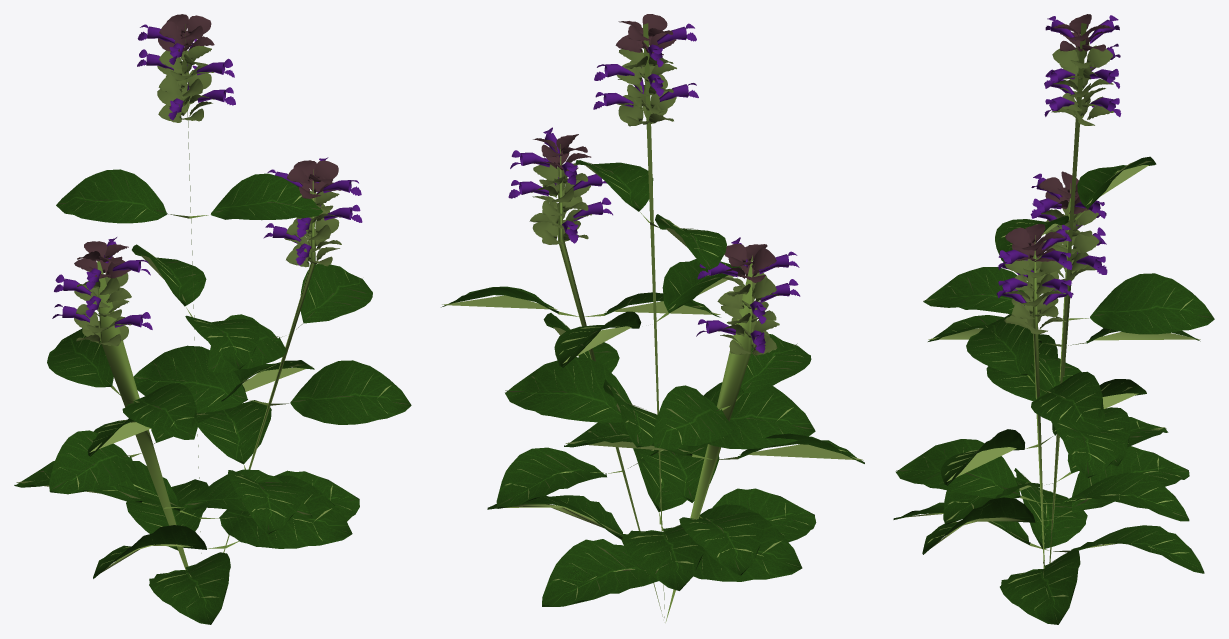
File: self-heal.glb
The picture shows the model from 3 angles, left to right: view 1: azimuth 30°, elevation 25°; view 2: azimuth 150°, elevation 25°; view 3: azimuth 270°, elevation 25°; orthographic projection. The views are drawn at different scales.
Visible parts, largest first — view 1: leaves, petals, stems, petals.002, hooded_corolla_tubes, leaf_secondary_veins, leaf_midribs, petals.001; view 2: leaves, petals, stems, leaf_midribs, hooded_corolla_tubes, petals.002, leaf_secondary_veins, petals.001; view 3: leaves, petals, hooded_corolla_tubes, stems, petals.002, leaf_midribs, leaf_secondary_veins, petals.001.
Boxes of the visible parts, x1,y1,x2,y2 form: leaves: [14, 169, 411, 624]; petals: [74, 45, 341, 346]; stems: [97, 24, 315, 569]; petals.002: [74, 14, 341, 278]; hooded_corolla_tubes: [62, 26, 352, 327]; leaf_secondary_veins: [40, 177, 391, 610]; leaf_midribs: [16, 199, 409, 617]; petals.001: [52, 24, 362, 329]; leaves: [441, 160, 864, 606]; petals: [529, 49, 779, 355]; stems: [558, 23, 752, 622]; leaf_midribs: [442, 165, 863, 599]; hooded_corolla_tubes: [519, 26, 790, 345]; petals.002: [532, 14, 778, 282]; leaf_secondary_veins: [505, 162, 847, 599]; petals.001: [508, 23, 800, 353]; leaves: [893, 156, 1214, 624]; petals: [1004, 43, 1113, 334]; hooded_corolla_tubes: [1002, 19, 1115, 305]; stems: [1020, 23, 1088, 568]; petals.002: [1005, 14, 1112, 261]; leaf_midribs: [896, 165, 1213, 619]; leaf_secondary_veins: [918, 161, 1192, 612]; petals.001: [996, 15, 1121, 298].
Bounding box in the file's own units: 0.1511 × 0.2356 × 0.1148.
6 materials, 2 textured.
